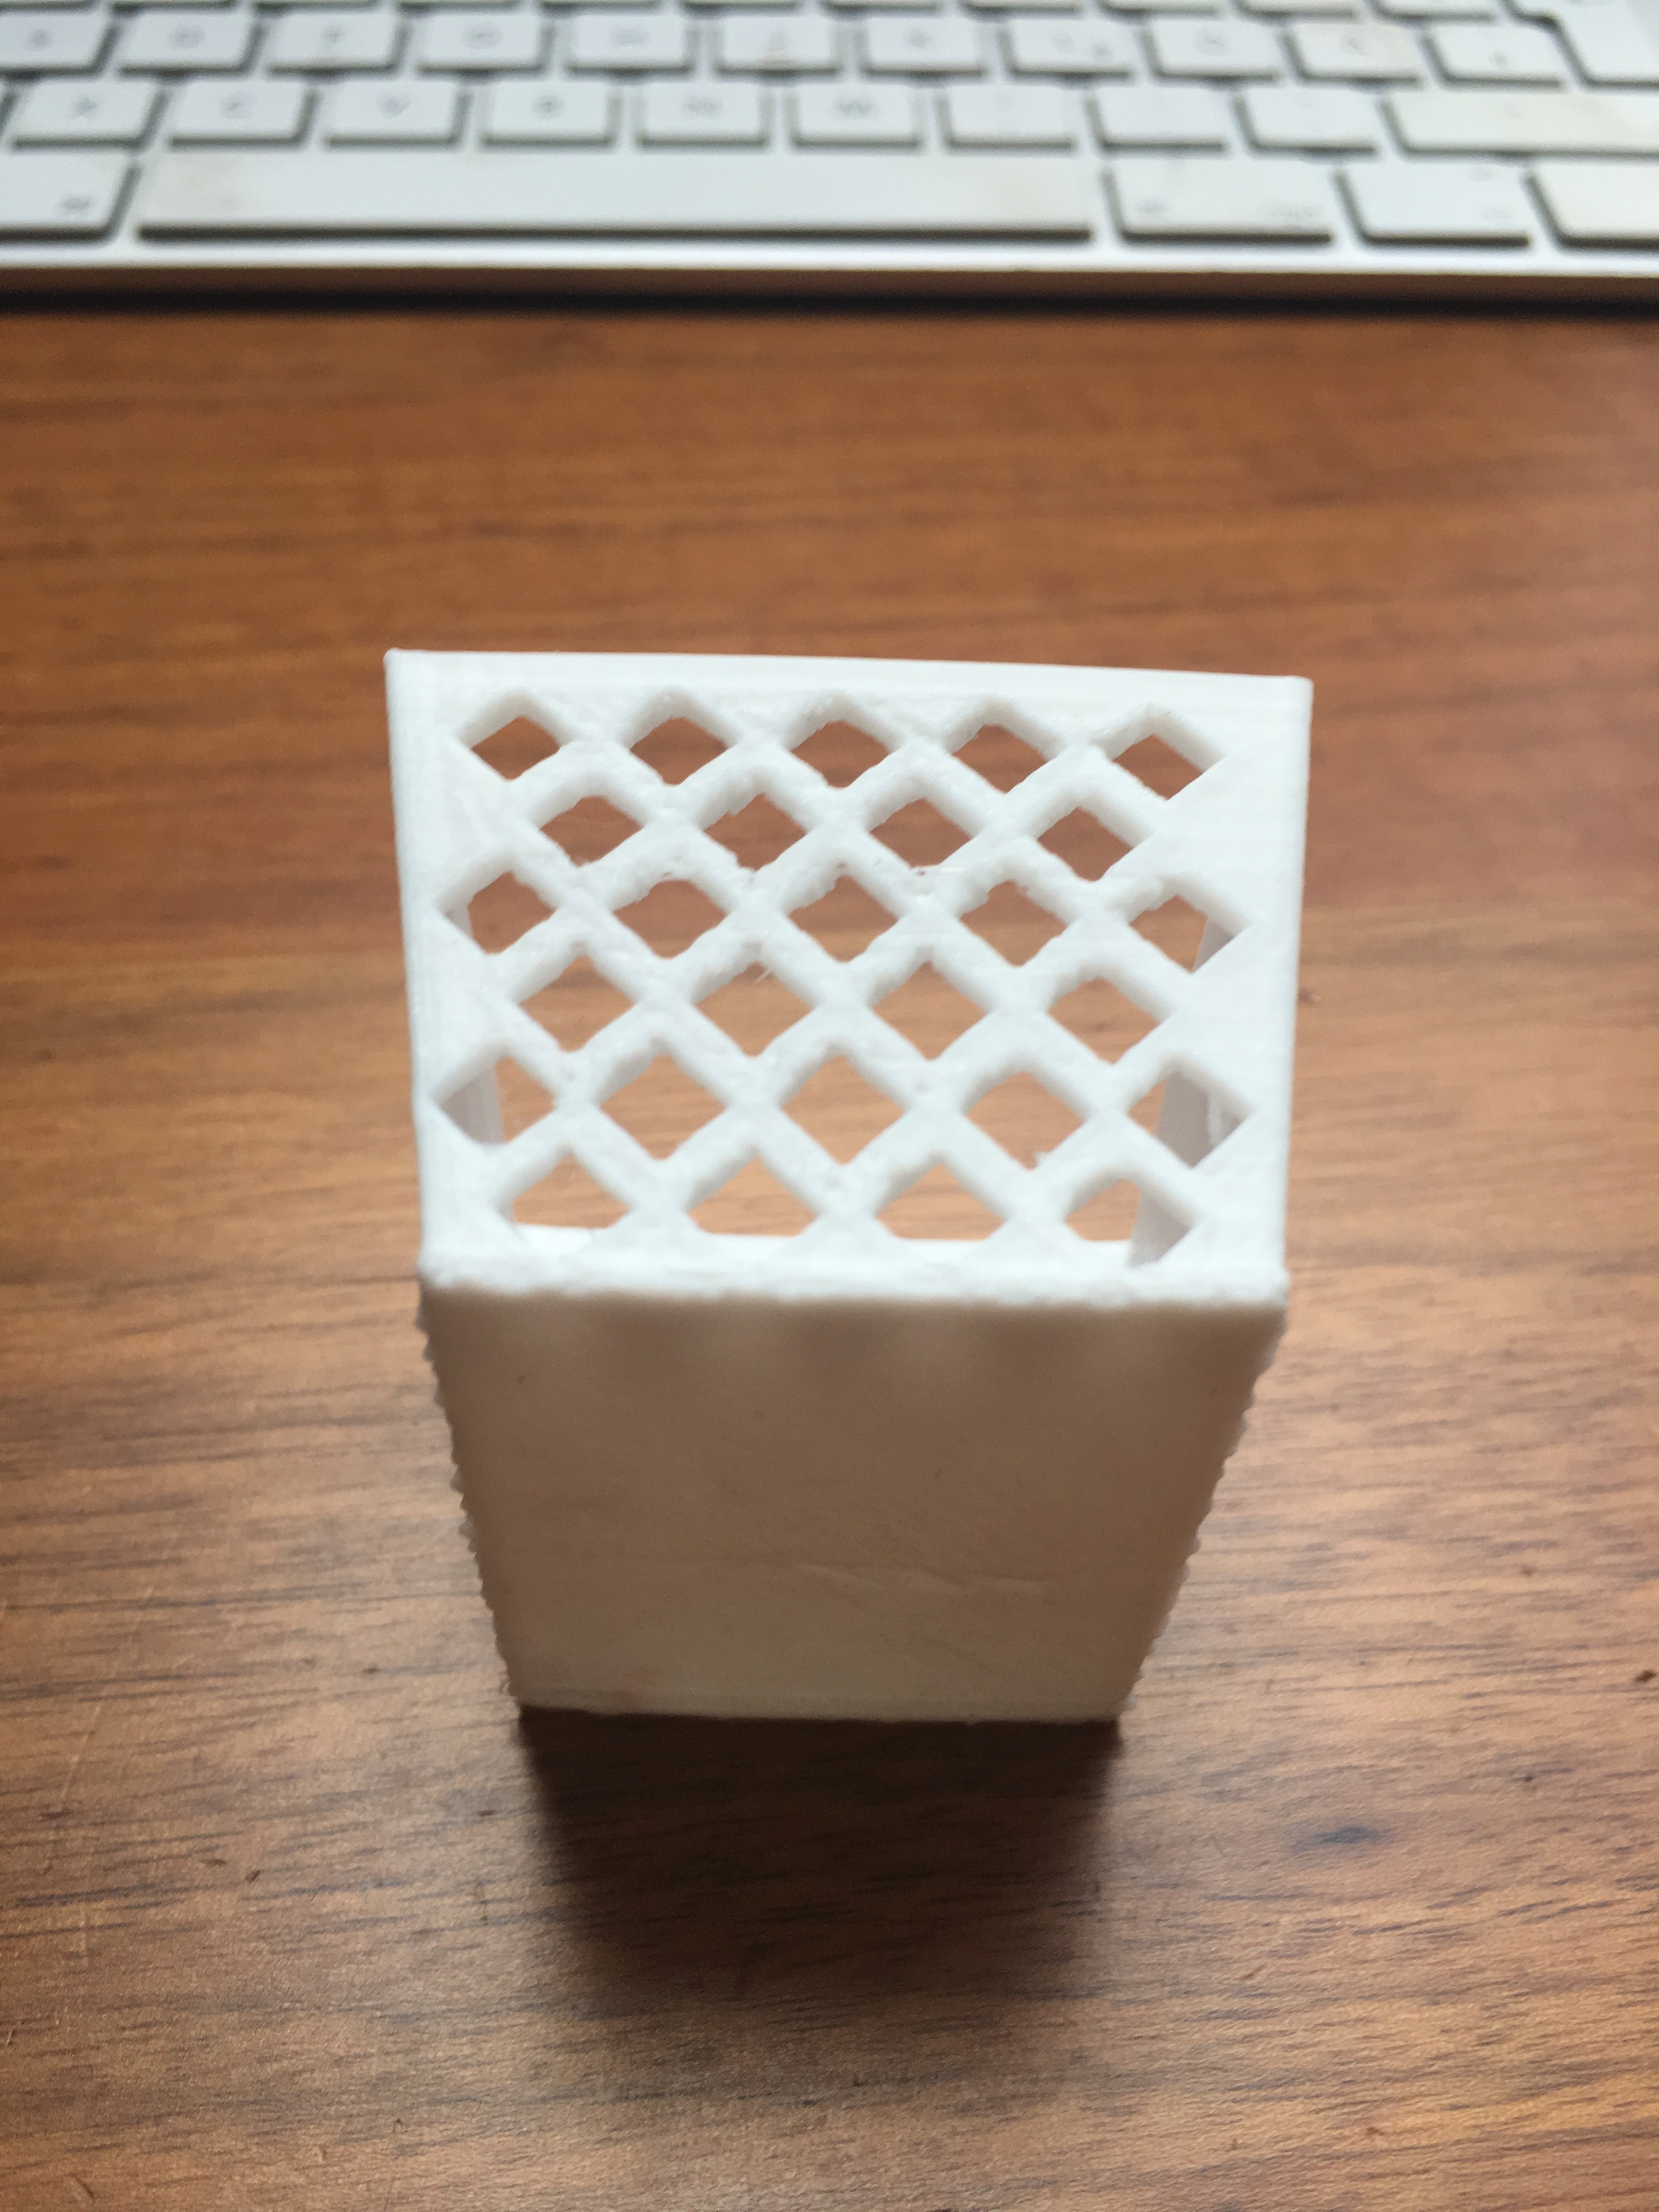3dpstringing: (875, 838, 974, 921), (617, 850, 735, 911), (983, 1127, 1073, 1191)
3dpunderextrusion: (868, 678, 978, 770), (854, 1049, 967, 1115), (810, 1151, 920, 1211), (528, 1033, 615, 1104), (694, 925, 789, 975), (594, 927, 662, 979)
